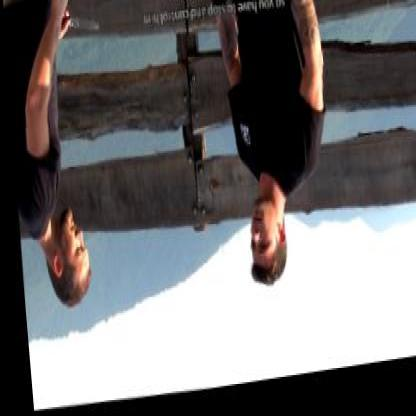knife: (56, 3, 102, 40)
